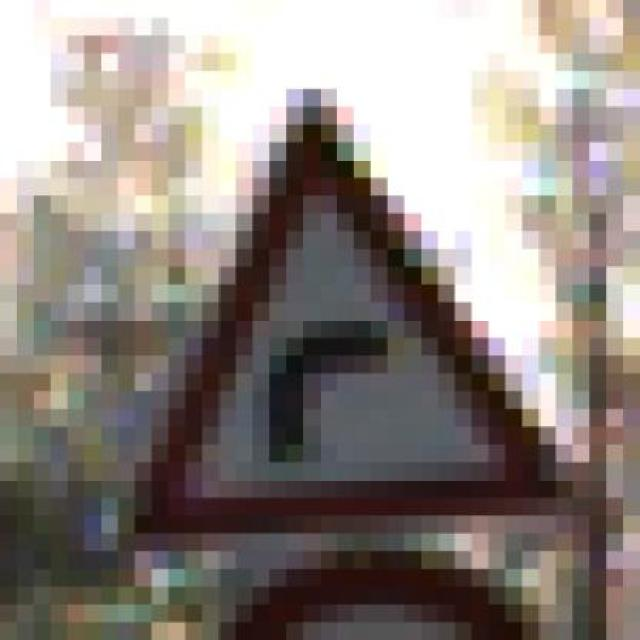Dangerous Rright Curve Ahead: (67, 71, 573, 551)
